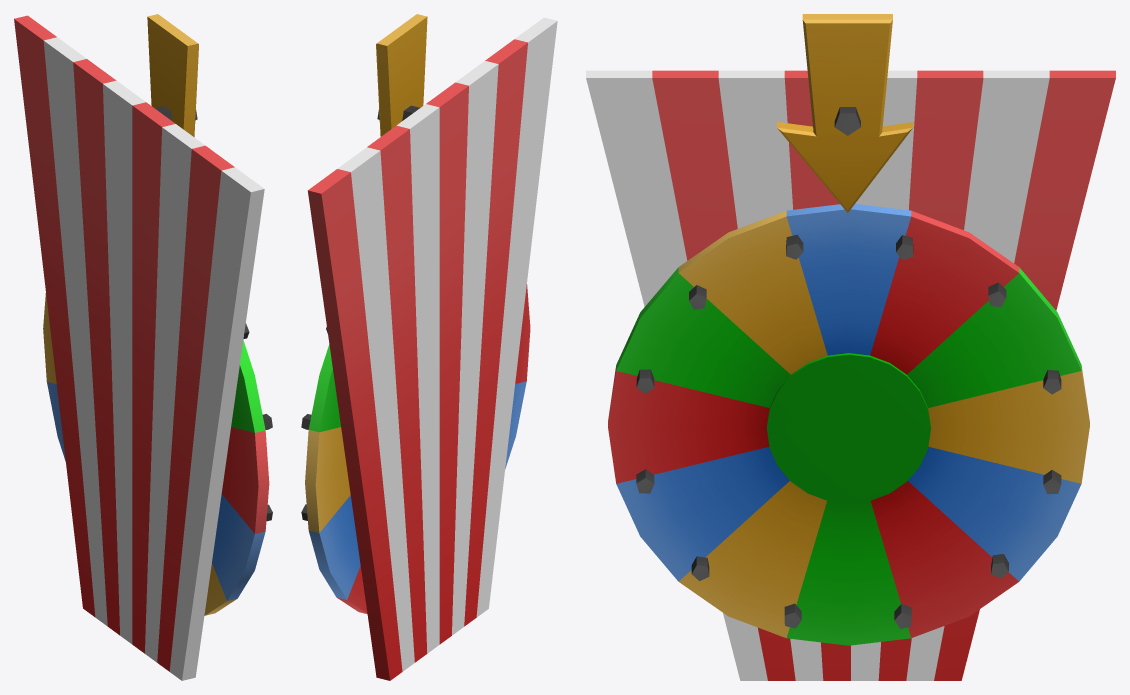
The model's file is Wheeloffortune_01.fbx.
The picture shows the model from 3 angles, left to right: view 1: azimuth 30°, elevation 25°; view 2: azimuth 150°, elevation 25°; view 3: azimuth 270°, elevation 25°; orthographic projection. The views are drawn at different scales.
Visible parts, largest first — view 1: pCube3, pCylinder19, pCube1; view 2: pCube3, pCylinder19, pCube1; view 3: pCylinder19, pCube3, pCube1.
Boxes of the visible parts, bbox=[...] form: pCube3: bbox=[14, 15, 264, 680]; pCylinder19: bbox=[43, 293, 272, 615]; pCube1: bbox=[147, 14, 209, 148]; pCube3: bbox=[307, 17, 557, 680]; pCylinder19: bbox=[301, 284, 530, 614]; pCube1: bbox=[376, 14, 427, 136]; pCylinder19: bbox=[608, 204, 1089, 645]; pCube3: bbox=[586, 70, 1115, 680]; pCube1: bbox=[777, 14, 913, 212].
Size of the model in its own units: 0.7446 by 7.45 by 5.28.
